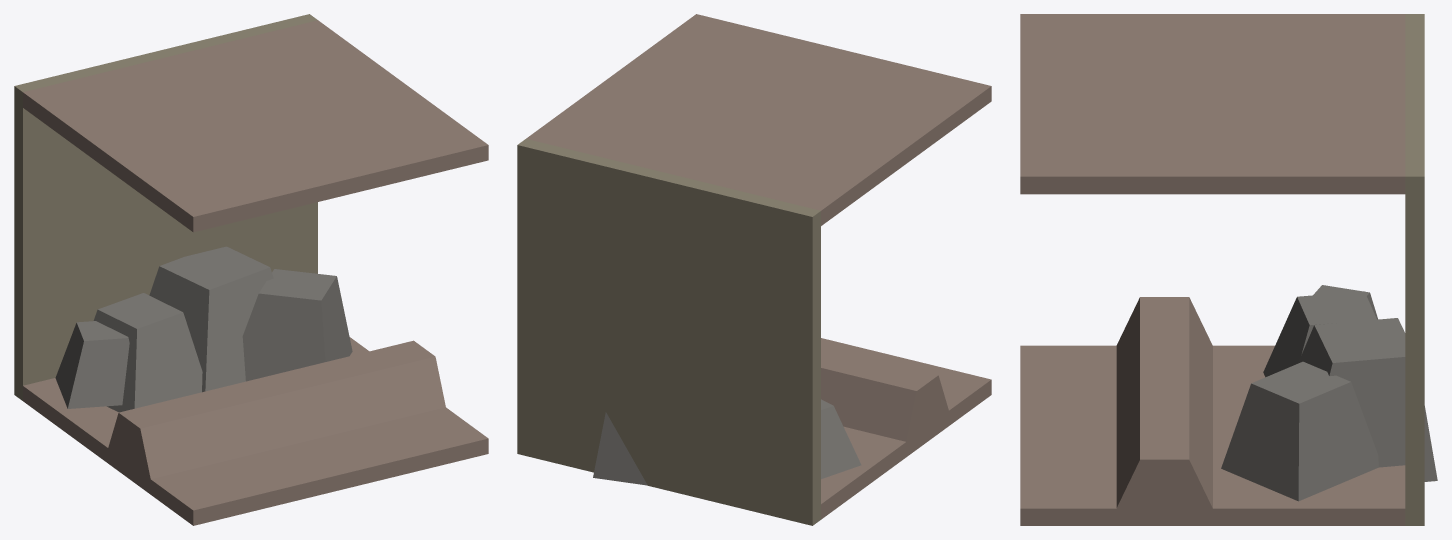
The model's file is Blockout.fbx.
3 renders of one model, left to right at view 1: azimuth 30°, elevation 25°; view 2: azimuth 150°, elevation 25°; view 3: azimuth 270°, elevation 25°, orthographic. The views are drawn at different scales.
Parts seen in each view (by area): view 1: Blockout; view 2: Blockout; view 3: Blockout.
Boxes of the visible parts, <box> form: Blockout: <box>14,14,488,525</box>; Blockout: <box>517,14,991,525</box>; Blockout: <box>1020,14,1437,525</box>.
Bounding box in the file's own units: 10 × 10 × 10.84.
